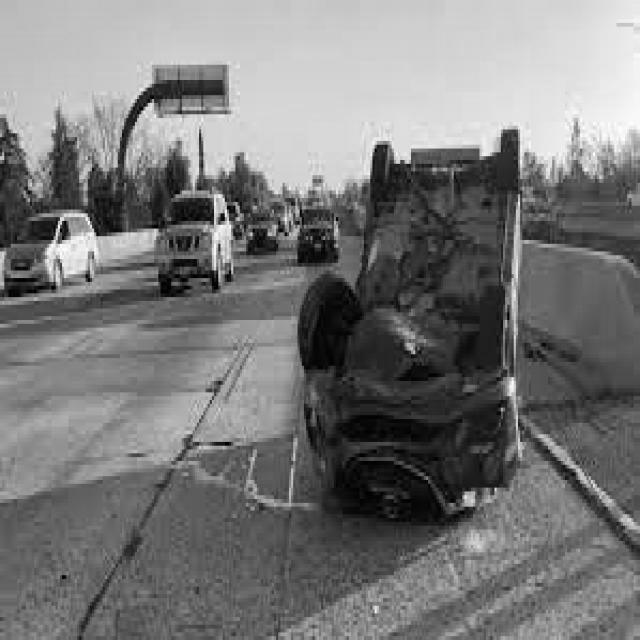accident: (294, 118, 532, 518)
vehicle: (155, 189, 235, 293), (4, 210, 102, 292), (296, 205, 341, 263), (245, 205, 278, 255), (229, 200, 247, 240), (276, 202, 291, 237)
